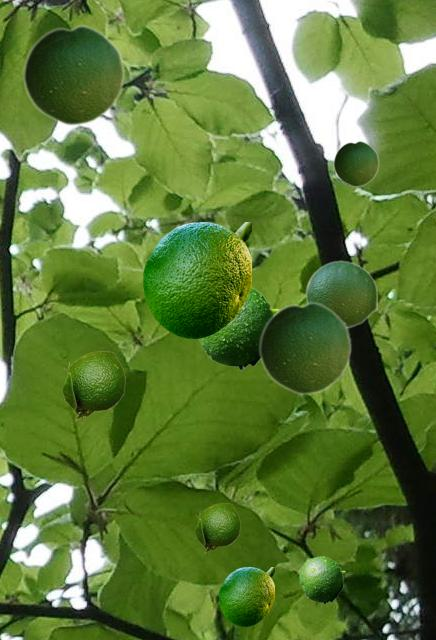dalandan: (143, 222, 250, 337), (22, 23, 124, 126), (258, 301, 351, 395), (197, 286, 277, 369), (305, 260, 377, 328), (61, 351, 124, 422), (219, 567, 273, 625), (194, 503, 239, 554), (299, 556, 344, 603), (333, 140, 378, 186)
